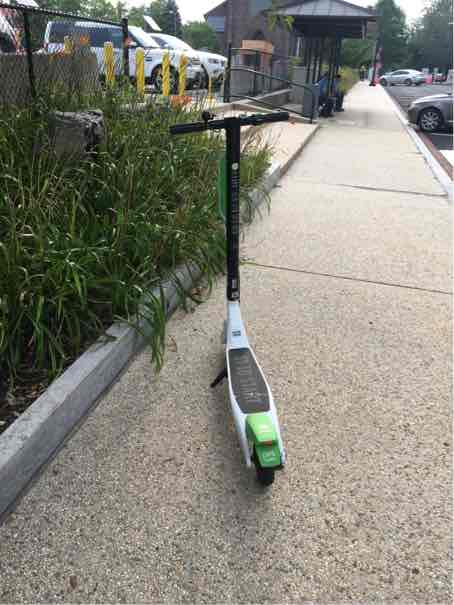scooter: (164, 105, 322, 483)
